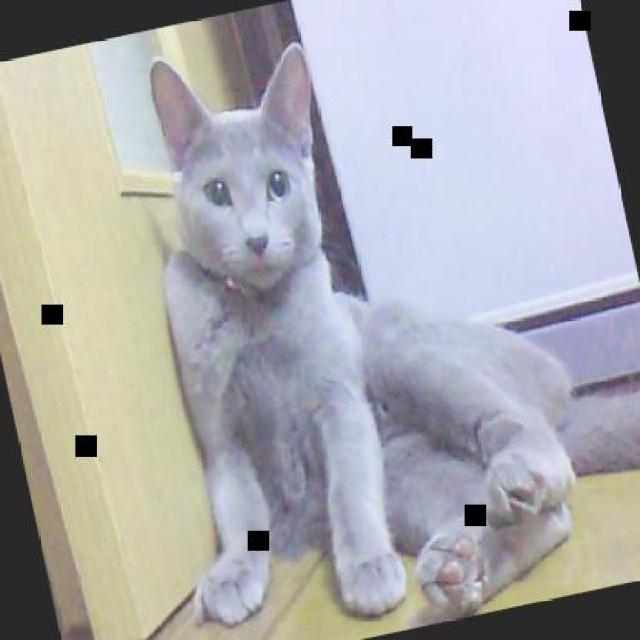cat: (92, 0, 615, 638)
